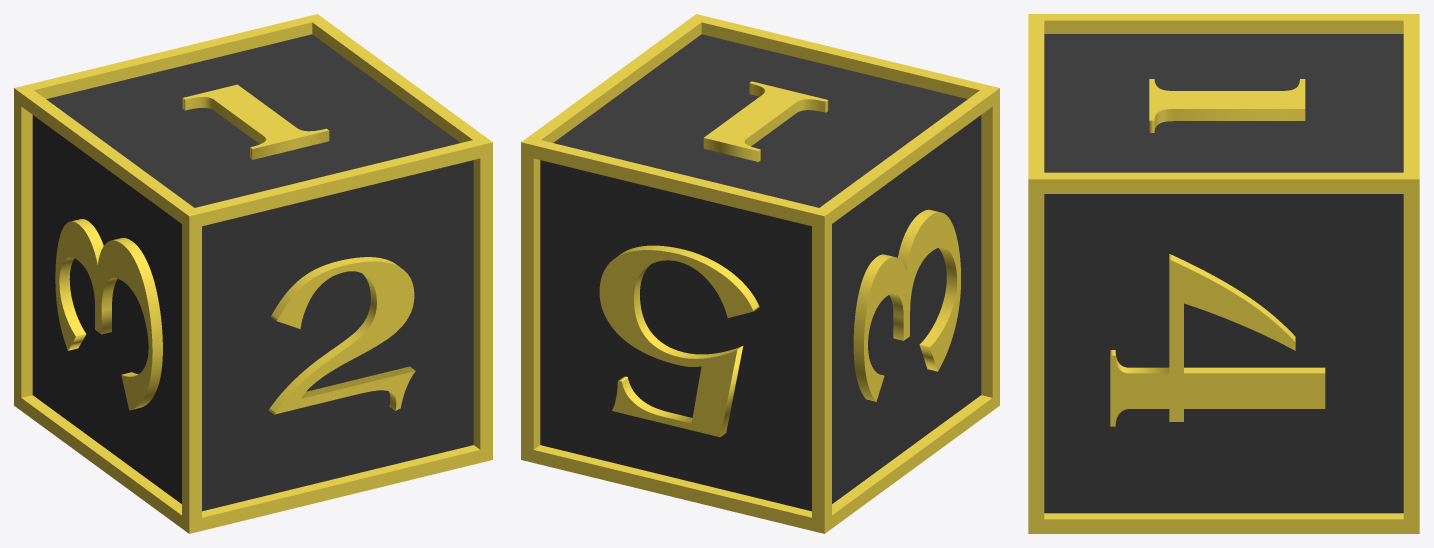
The picture shows the model from 3 angles, left to right: view 1: azimuth 30°, elevation 25°; view 2: azimuth 150°, elevation 25°; view 3: azimuth 270°, elevation 25°; orthographic projection. The views are drawn at different scales.
Parts seen in each view (by area): view 1: d6_face_2, Cube, d6_face_1, d6_face_3, Text.004, Text.002, Text; view 2: d6_face_5, Cube, d6_face_1, d6_face_3, Text.005, Text.002, Text; view 3: d6_face_4, d6_face_1, Cube, Text.001, Text.
Part boxes in pixels (x1=…): d6_face_2: x1=202, y1=160, x2=473, y2=511; Cube: x1=14, y1=14, x2=492, y2=533; d6_face_1: x1=46, y1=34, x2=460, y2=207; d6_face_3: x1=32, y1=115, x2=181, y2=503; Text.004: x1=269, y1=257, x2=415, y2=414; Text.002: x1=55, y1=219, x2=162, y2=410; Text: x1=182, y1=84, x2=329, y2=159; d6_face_5: x1=540, y1=160, x2=811, y2=511; Cube: x1=521, y1=14, x2=999, y2=533; d6_face_1: x1=553, y1=34, x2=967, y2=207; d6_face_3: x1=832, y1=115, x2=981, y2=503; Text.005: x1=599, y1=245, x2=759, y2=437; Text.002: x1=853, y1=209, x2=960, y2=401; Text: x1=703, y1=81, x2=828, y2=161; d6_face_4: x1=1044, y1=194, x2=1403, y2=513; d6_face_1: x1=1044, y1=34, x2=1403, y2=172; Cube: x1=1028, y1=14, x2=1419, y2=533; Text.001: x1=1110, y1=254, x2=1325, y2=426; Text: x1=1149, y1=79, x2=1305, y2=132.
Size of the model in its own units: 2 by 2 by 2.
